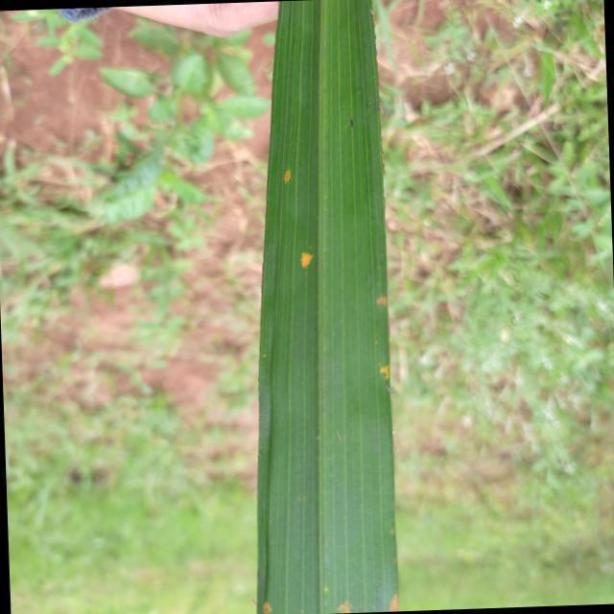Kalium: (258, 0, 406, 614)
